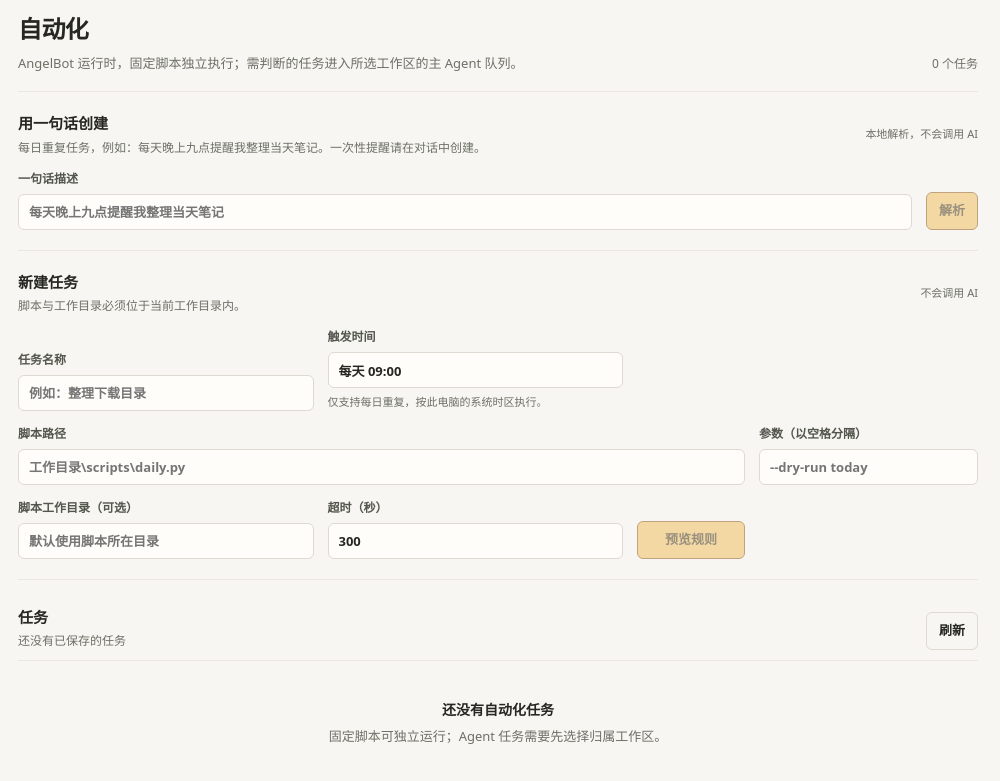
it: AutomationPage › does not create a daily automation from unsupported timing: 明天 15:00 提醒我打电话
This screenshot has width=1000, height=781.
Type "明天 15:00 提醒我打电话" into the field with placeholder "每天晚上九点提醒我整理当天笔记" at [465, 212], box [18,194,912,230]
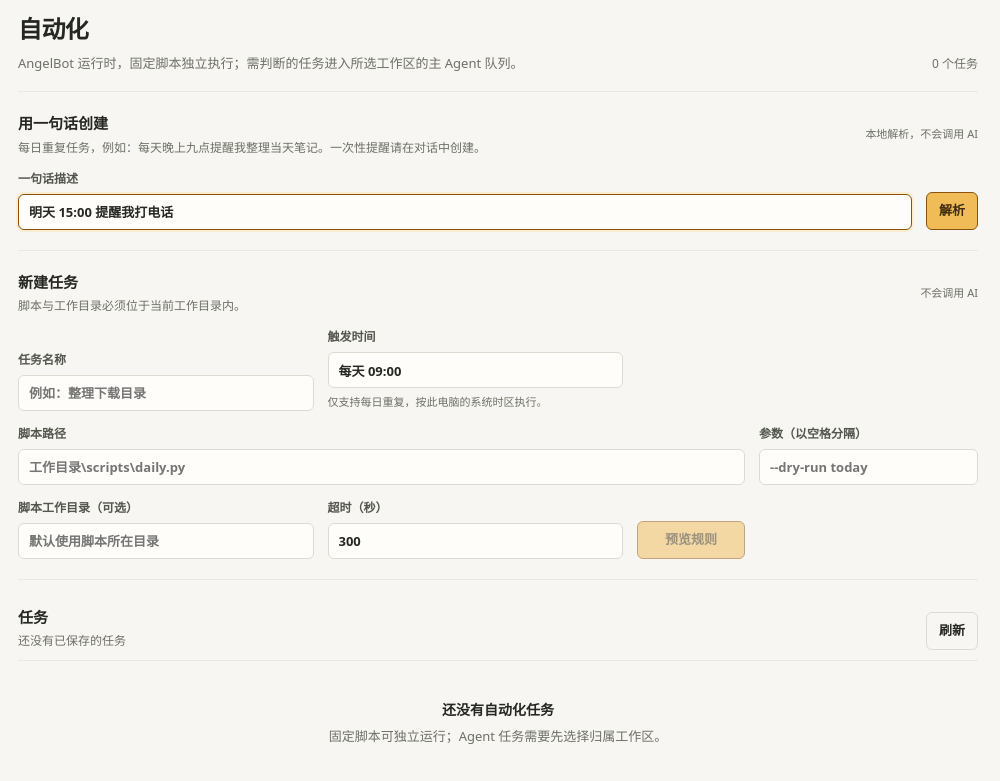
Click the button "解析" at [952, 211], box [926,192,978,230]
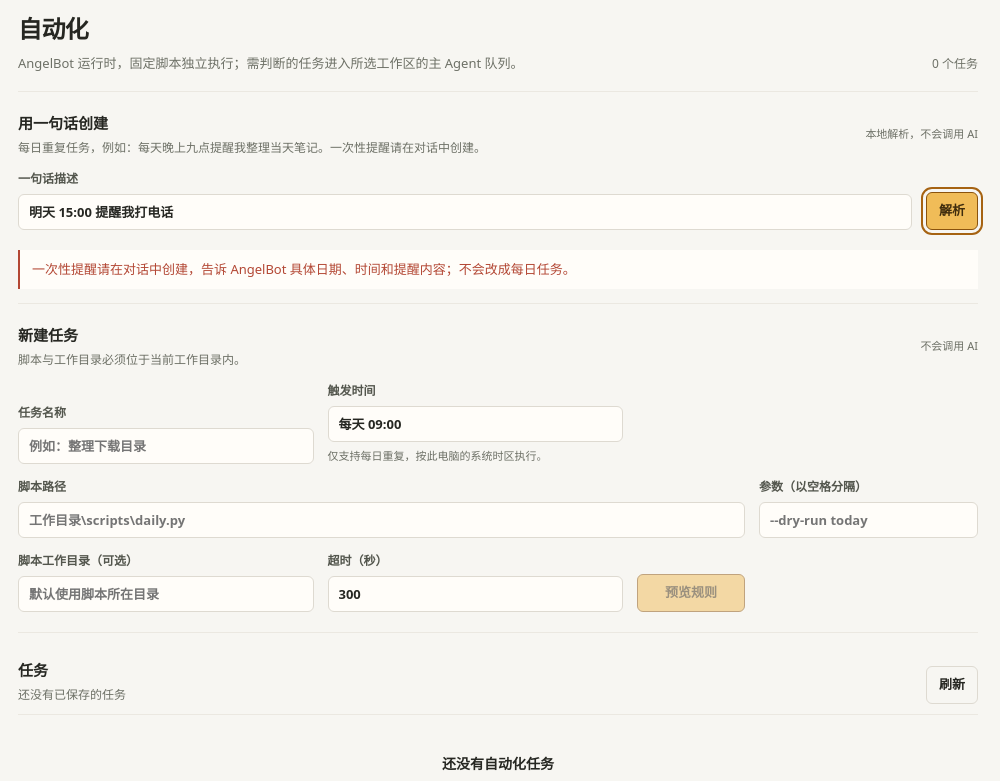
Now the message shows "一次性提醒请在对话中创建", box [32,260,576,278]
